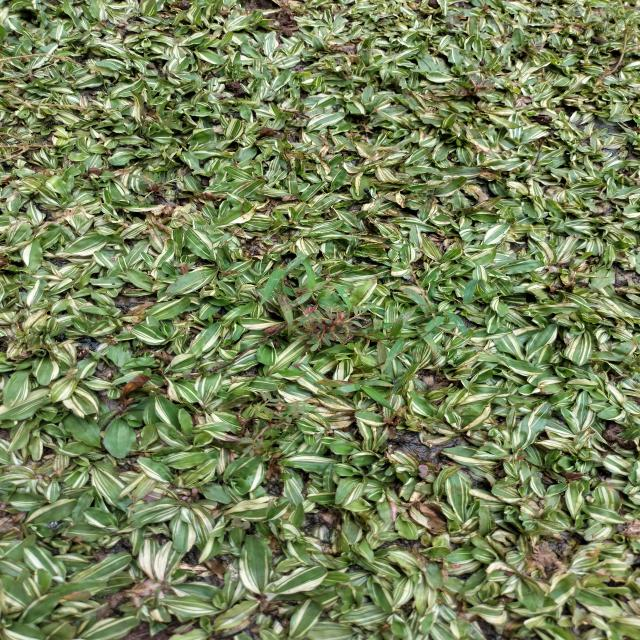bayi: (308, 89, 316, 96)
buah daun: (236, 390, 311, 458), (296, 302, 374, 352), (123, 170, 186, 208), (445, 71, 496, 103), (444, 10, 472, 30), (222, 516, 252, 533)
rambat atas: (350, 315, 448, 373), (401, 278, 509, 326), (283, 246, 335, 308), (312, 378, 400, 414), (258, 267, 295, 338), (327, 280, 353, 314)
